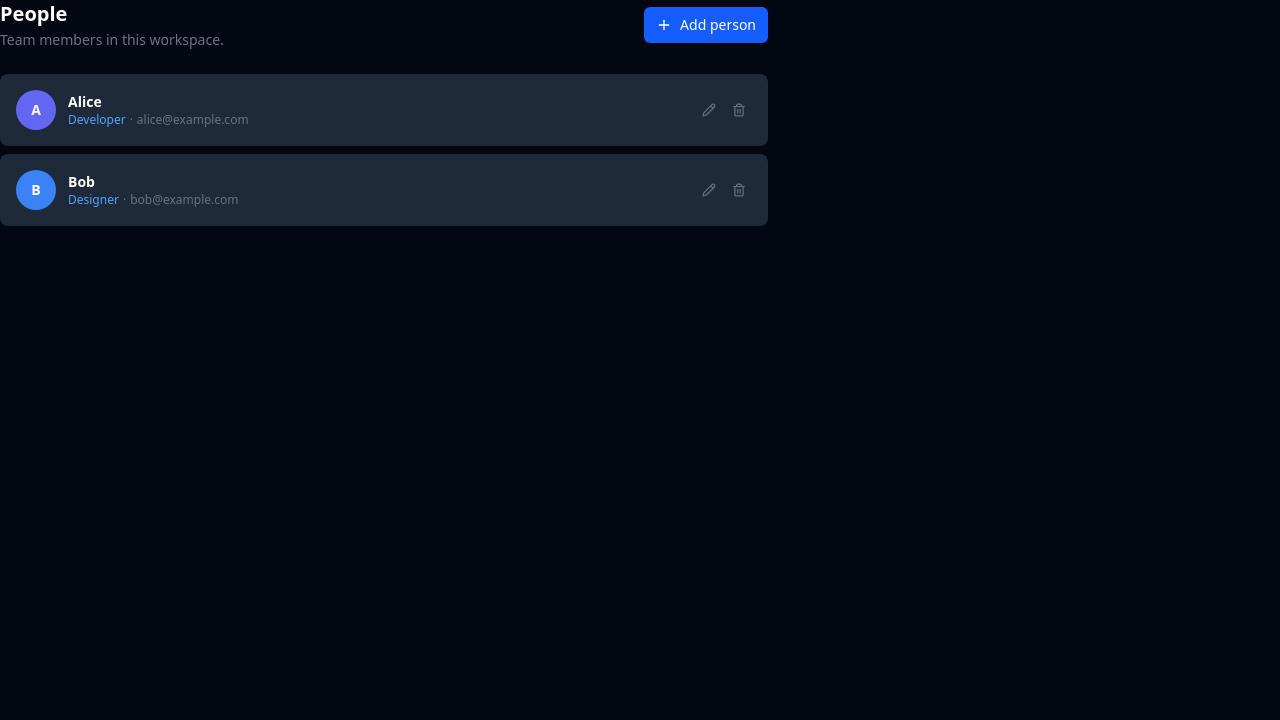
People — add person modal › shows a Photo control and no avatar color picker
Click the button "Add person" at (706, 25), box left=644, top=7, right=768, bottom=43
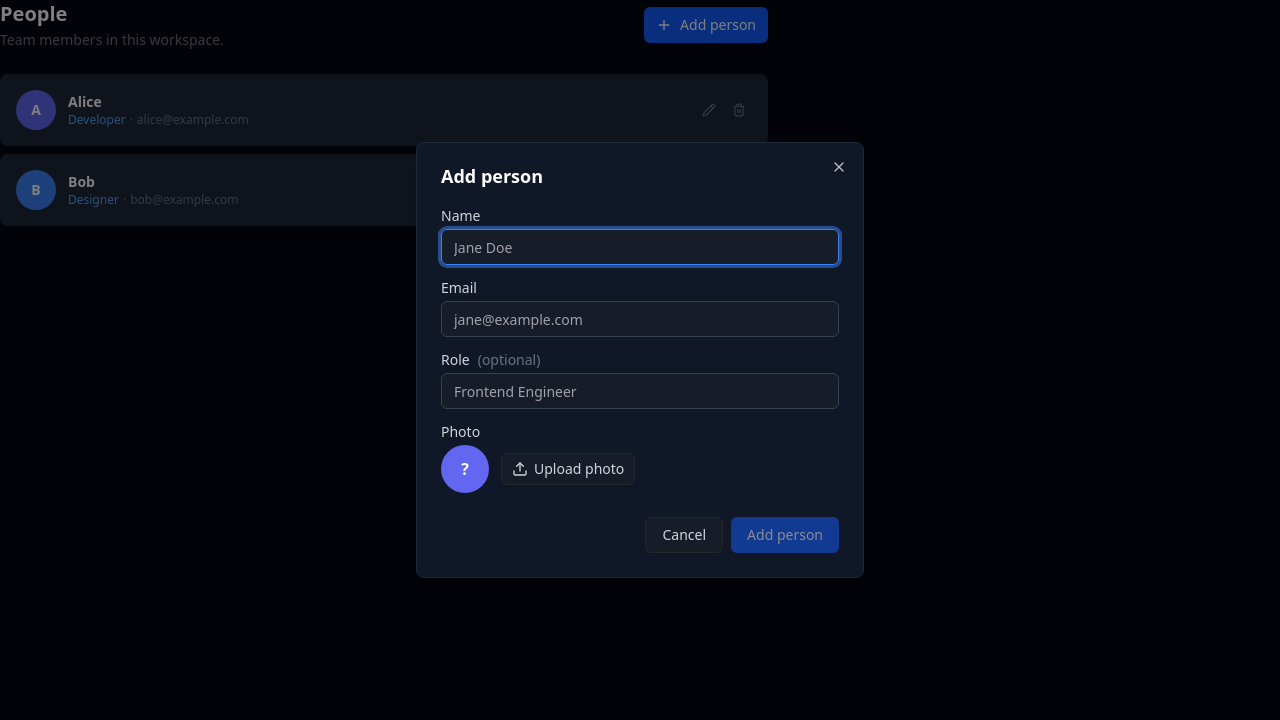
Result: the text "Photo" is shown at left=441, top=422, right=480, bottom=441
Result: the button "Upload photo" is shown at left=501, top=453, right=635, bottom=485
